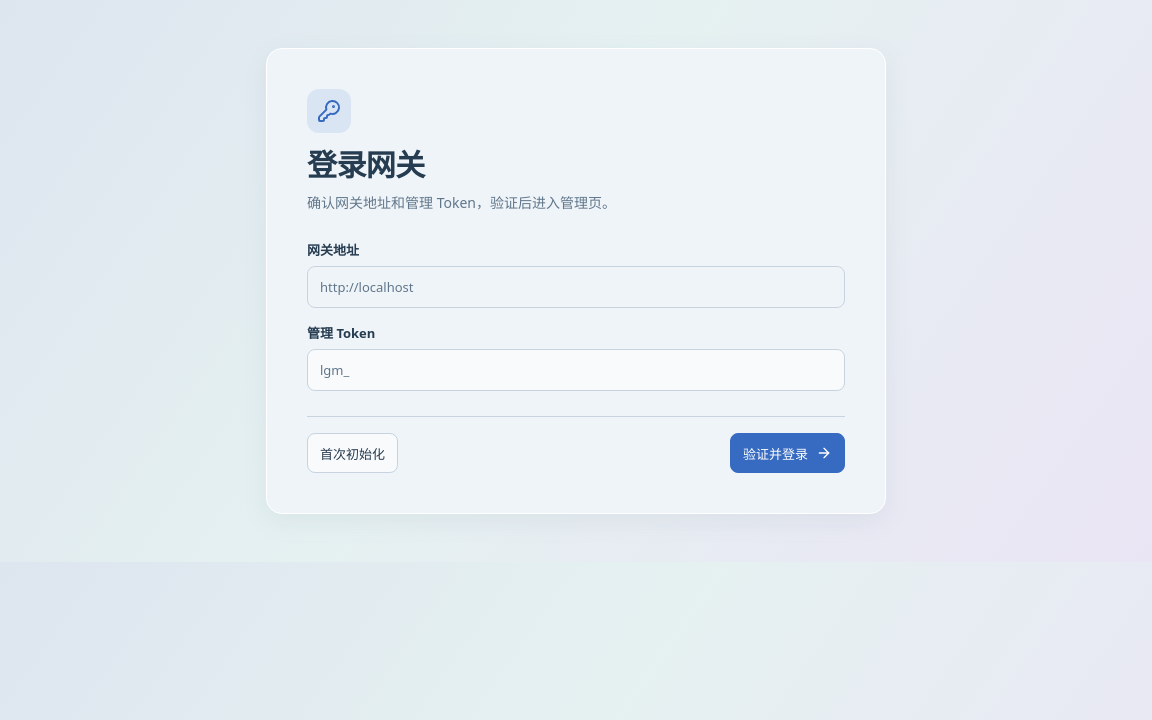
BootstrapPanel › keeps the administrator form open when the bootstrap token is rejected
The image size is (1152, 720).
Click the button "首次初始化". click: (352, 453)
box: [307,433,398,473]
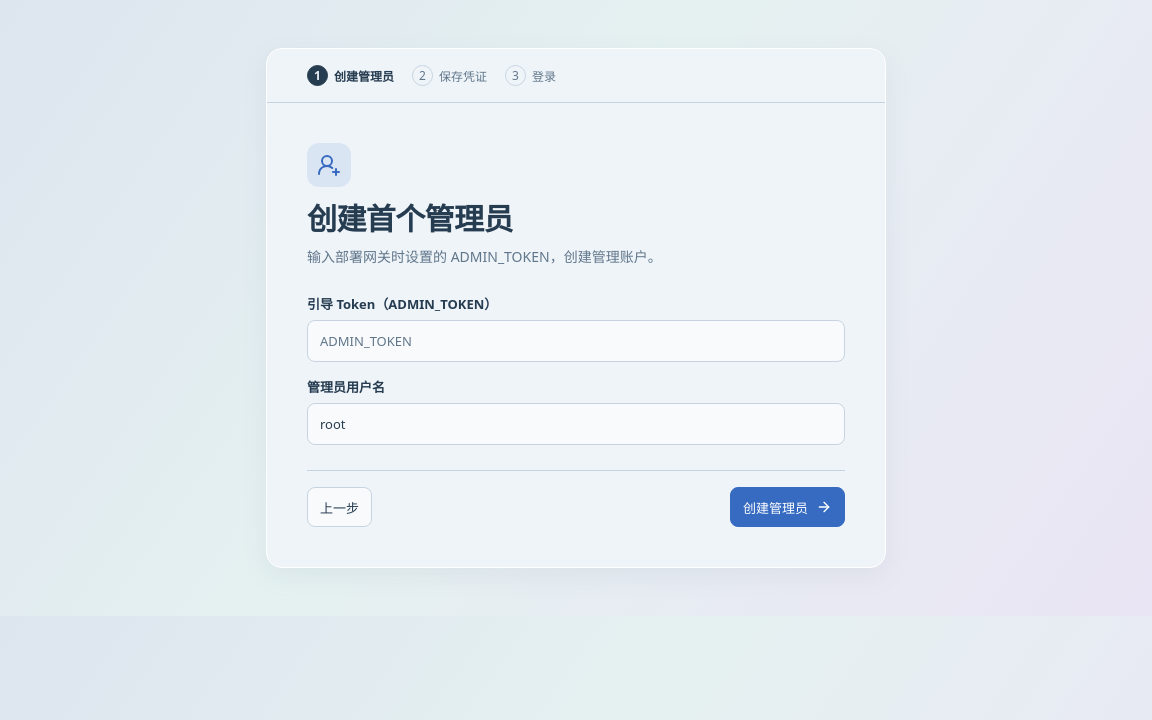
Type "wrong-token" into the password field with placeholder "ADMIN_TOKEN". click: (576, 341)
box: [307,320,845,362]
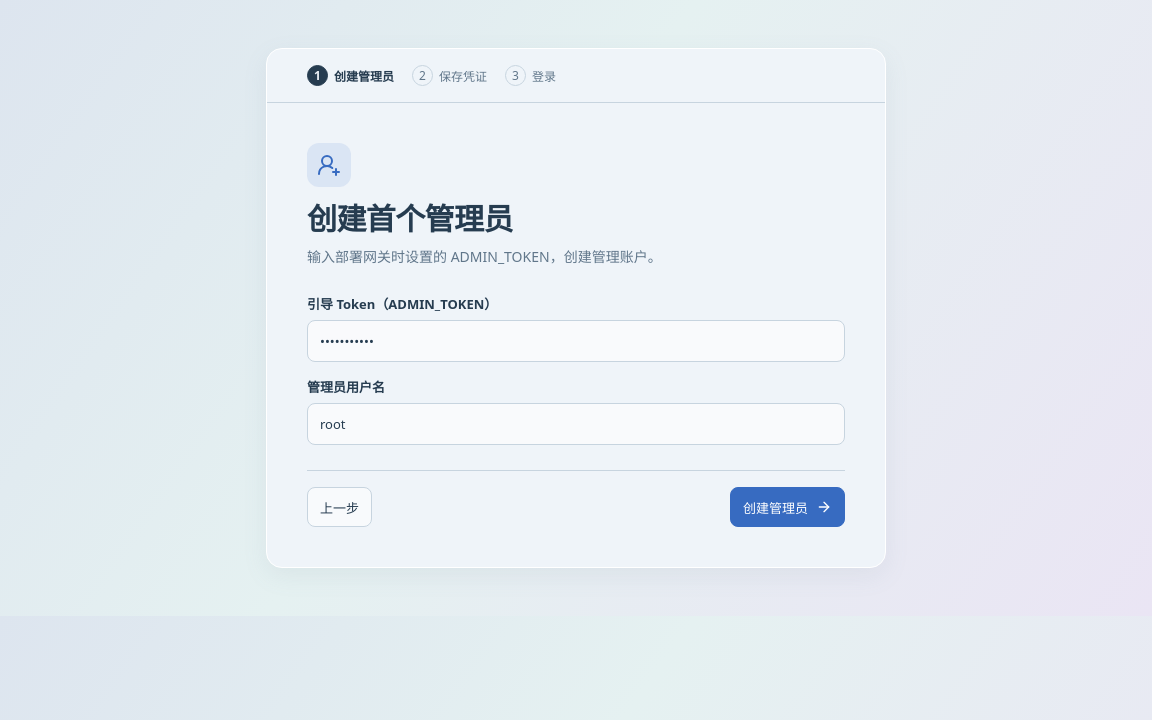
Click the button "创建管理员". click: (788, 507)
box: [730,487,845,527]
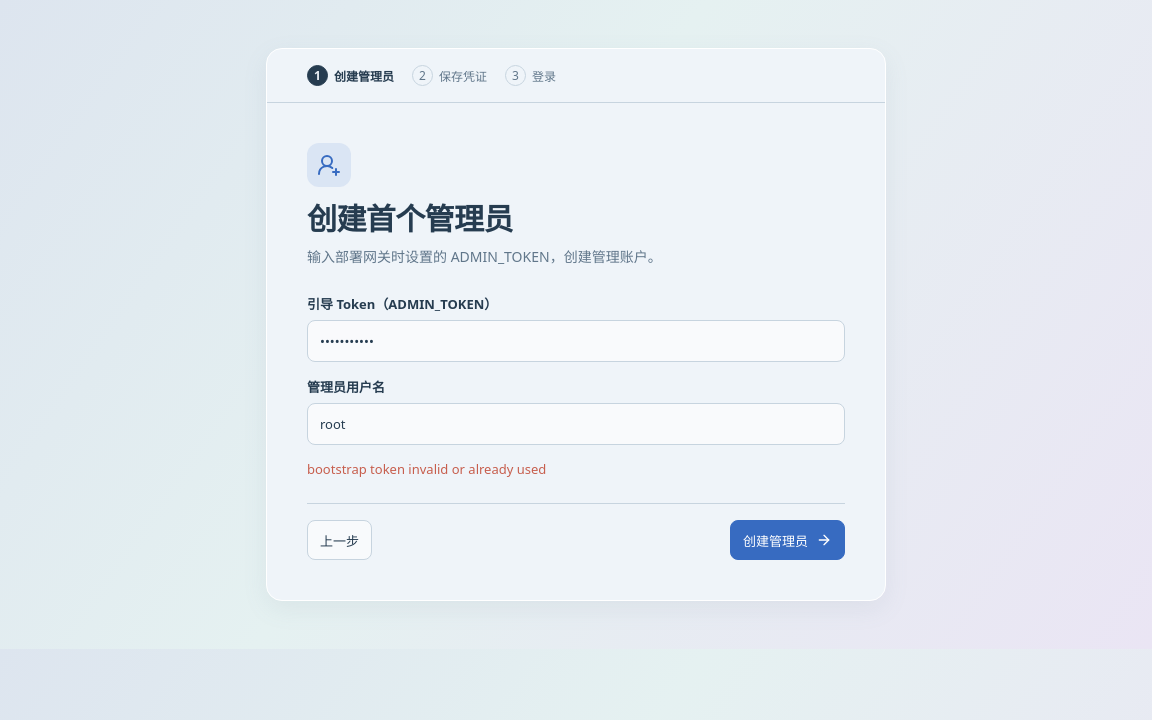
Expected: the message shows "bootstrap token invalid", [307,460,546,478]
